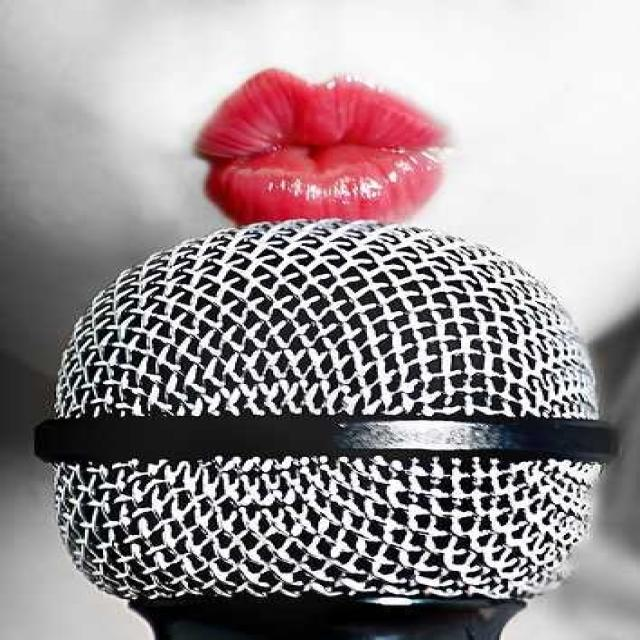microphone: (44, 220, 604, 606)
